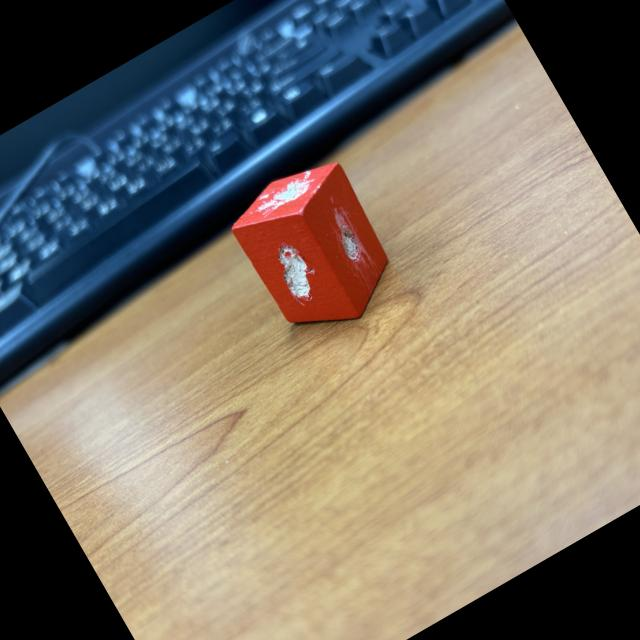broken: (220, 146, 412, 352)
